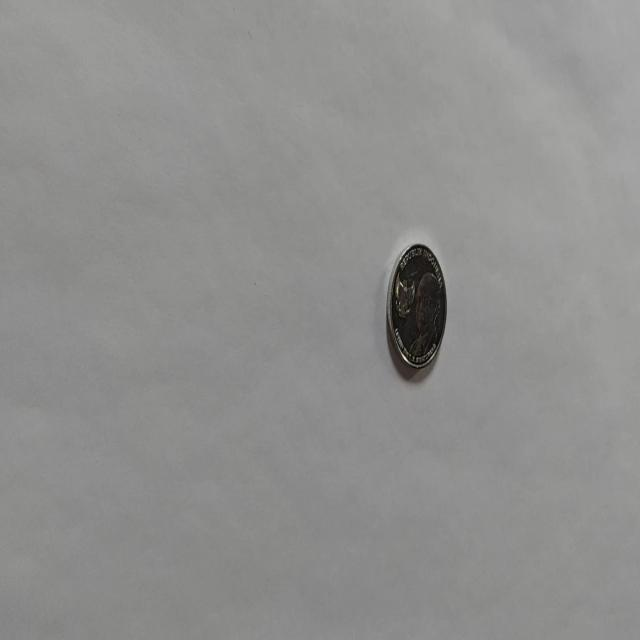lima ratus rupiah: (386, 241, 448, 371)
